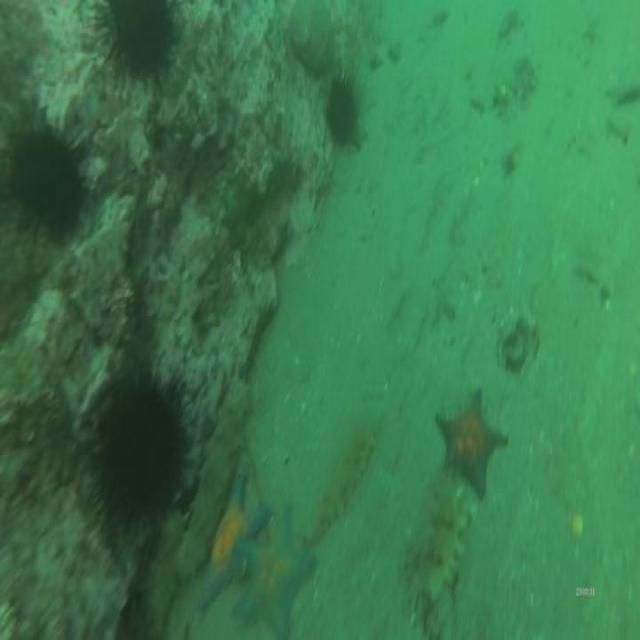echinus: (101, 386, 182, 523), (16, 134, 82, 242), (104, 5, 174, 74), (326, 86, 356, 142)
starfish: (176, 376, 250, 585), (238, 506, 318, 638), (200, 472, 269, 612), (309, 424, 375, 548), (437, 387, 508, 495), (428, 485, 473, 604), (148, 514, 184, 628)
